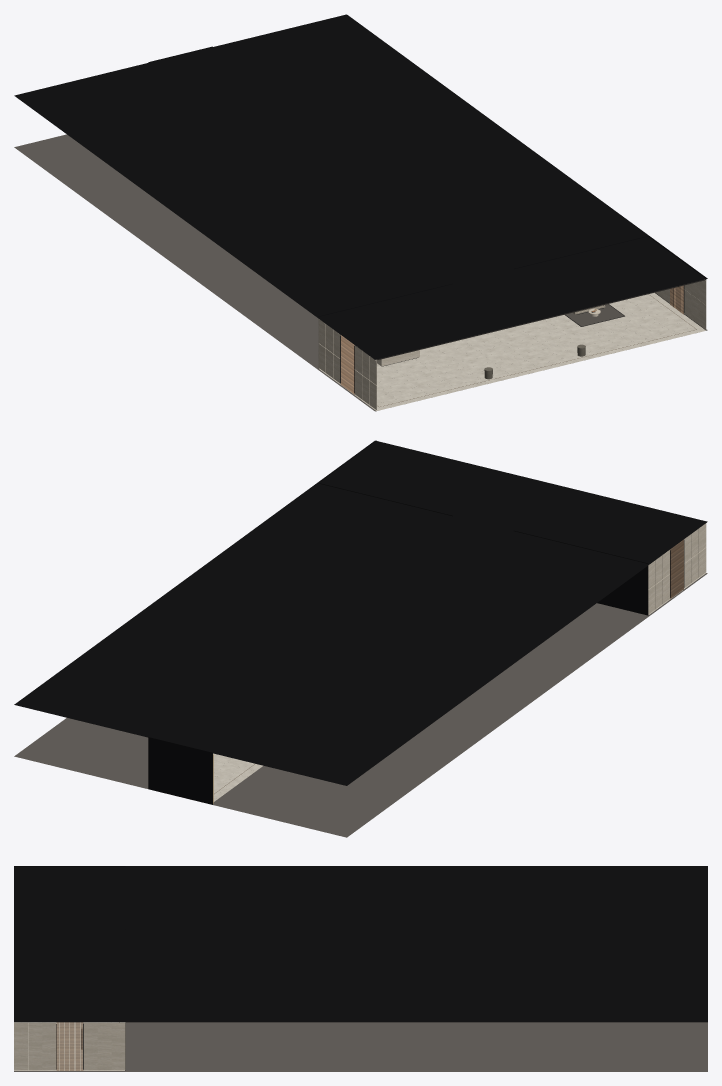
The model's file is room_hub.glb.
3 renders of one model, top to bottom at view 1: azimuth 30°, elevation 25°; view 2: azimuth 150°, elevation 25°; view 3: azimuth 270°, elevation 25°, orthographic. The views are drawn at different scales.
Parts seen in each view (by area): view 1: MTG_Reveals, MTG_Floor, MTG_Walls; view 2: MTG_Reveals, MTG_Walls, MTG_Floor; view 3: MTG_Reveals, MTG_Walls, MTG_Floor.
Part boxes in pixels (x1,y1,x2,y2): MTG_Reveals: (14, 14, 707, 411); MTG_Floor: (319, 292, 705, 410); MTG_Walls: (318, 279, 706, 410); MTG_Reveals: (14, 440, 707, 837); MTG_Walls: (648, 523, 706, 614); MTG_Floor: (213, 573, 705, 801); MTG_Reveals: (14, 866, 707, 1071); MTG_Walls: (14, 1022, 125, 1070); MTG_Floor: (14, 1022, 125, 1070).
Size of the model in its own units: 33 by 4.95 by 62.01.
Materials: 28 (6 with a texture image).
